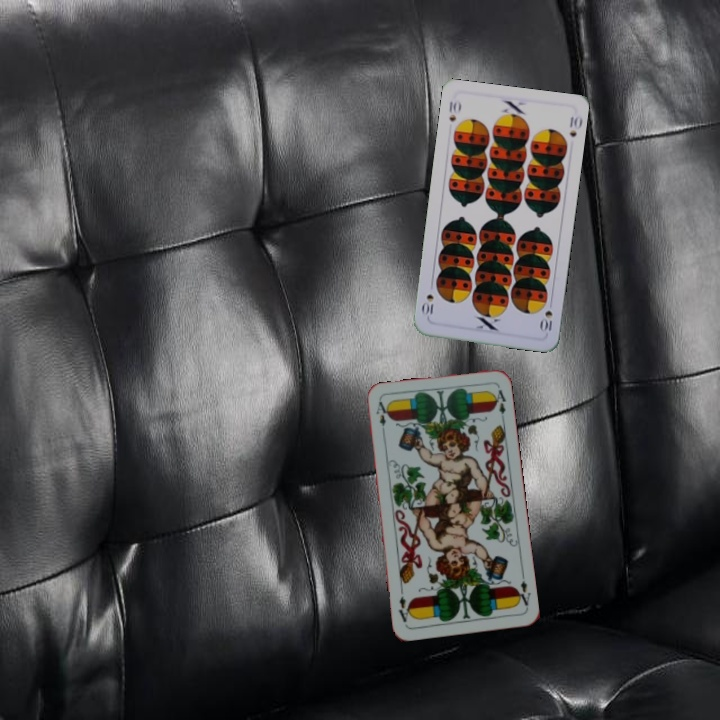EA: (512, 570, 533, 610), (372, 397, 389, 438)
S10: (537, 296, 555, 335), (445, 97, 463, 124)
